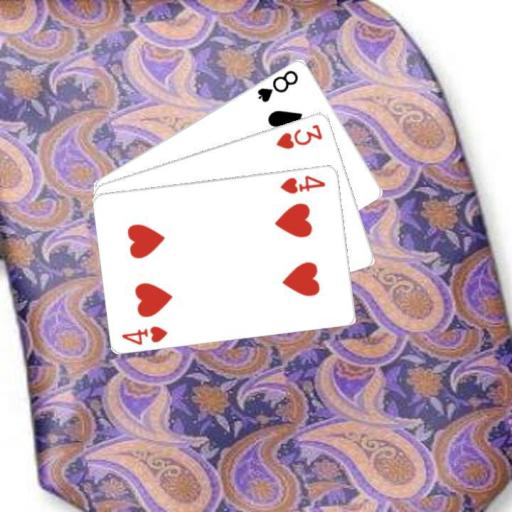3H: (273, 120, 324, 151)
4H: (277, 171, 327, 195), (119, 322, 169, 346)
8S: (254, 66, 300, 104)
